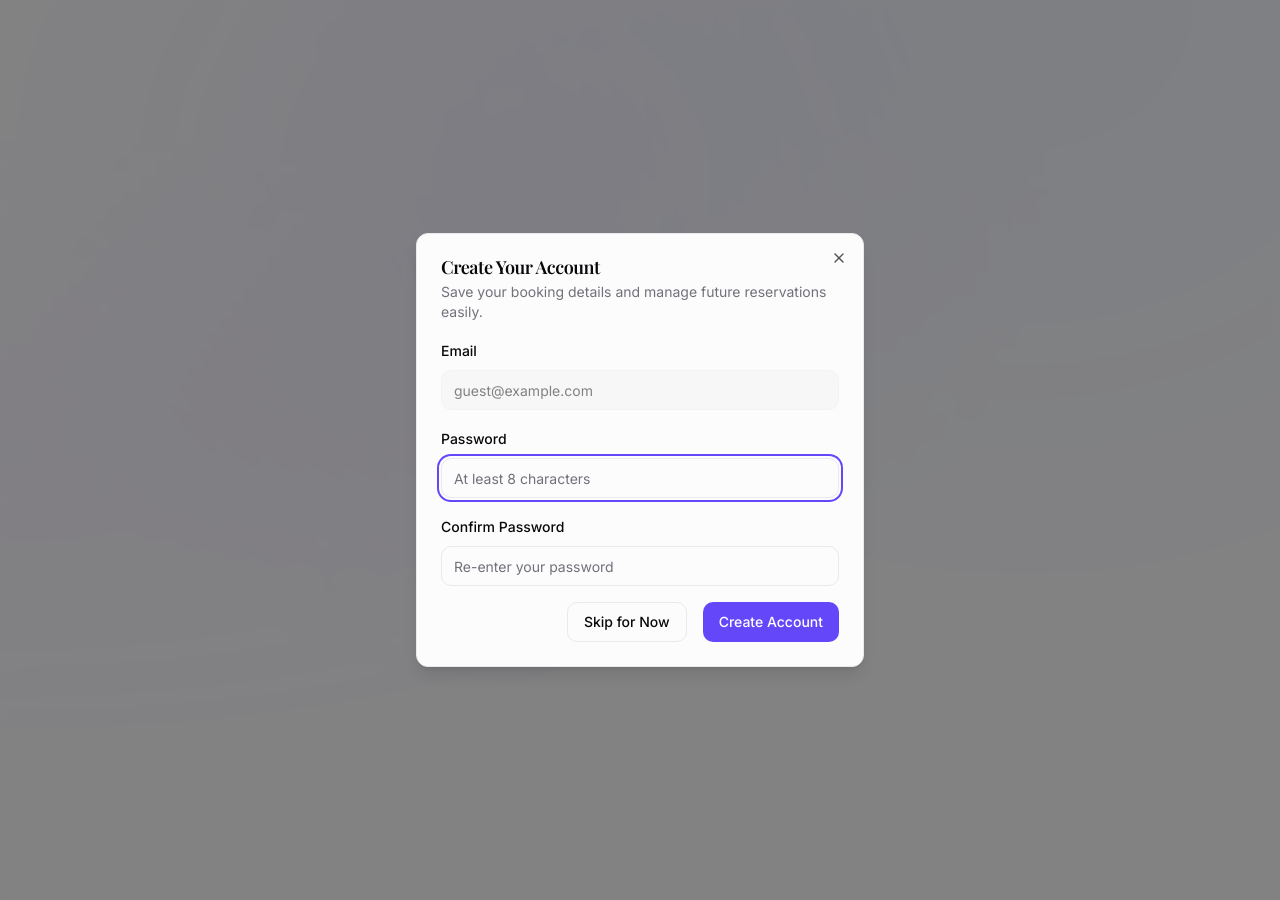
it: CreateAccountDialog › should validate password match
The image size is (1280, 900).
Step 1. Type "password123" into the password field labelled "Password" → (640, 478), box x1=441 y1=458 x2=839 y2=498
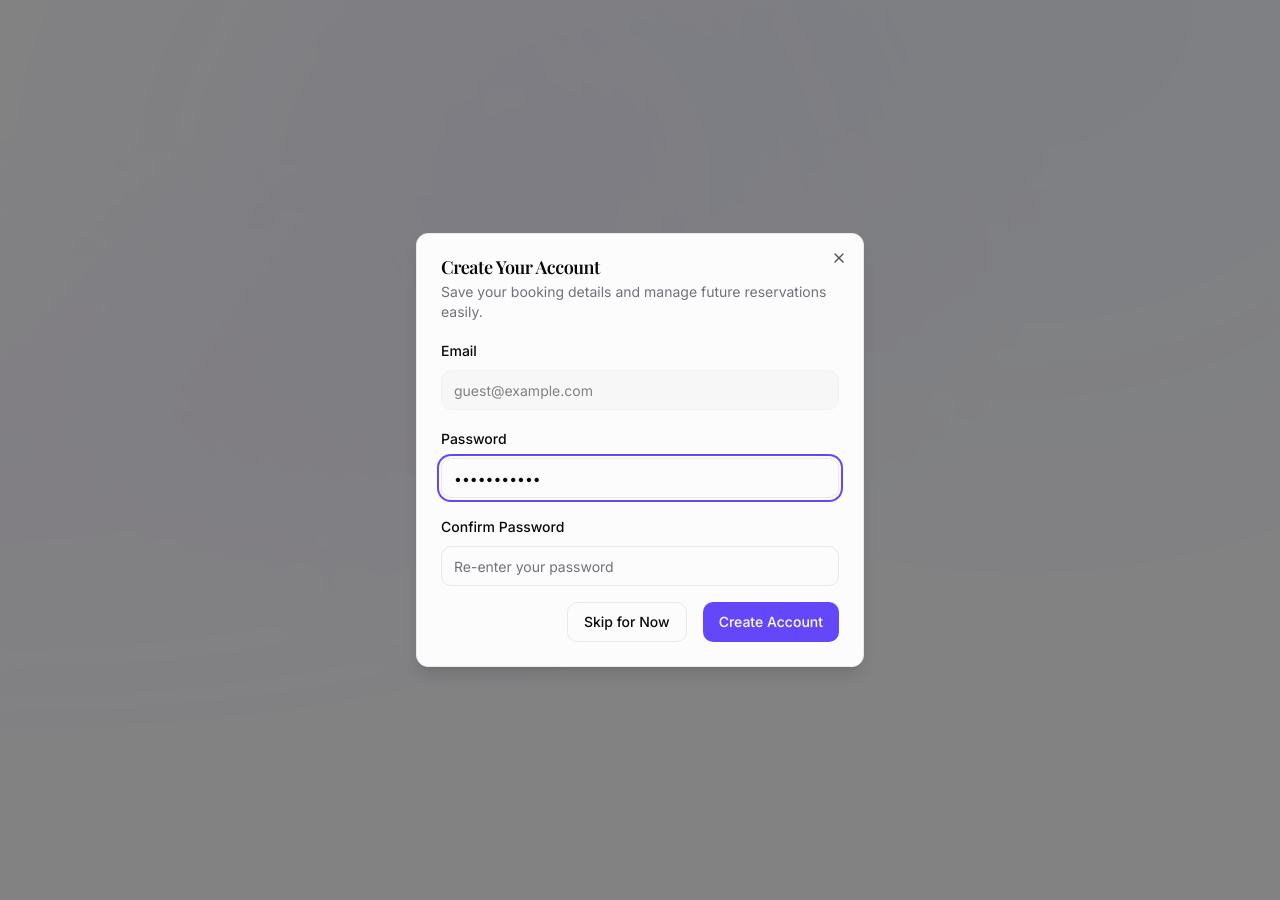
Step 2. Type "different456" into the password field labelled "Confirm Password" → (640, 566), box x1=441 y1=546 x2=839 y2=586
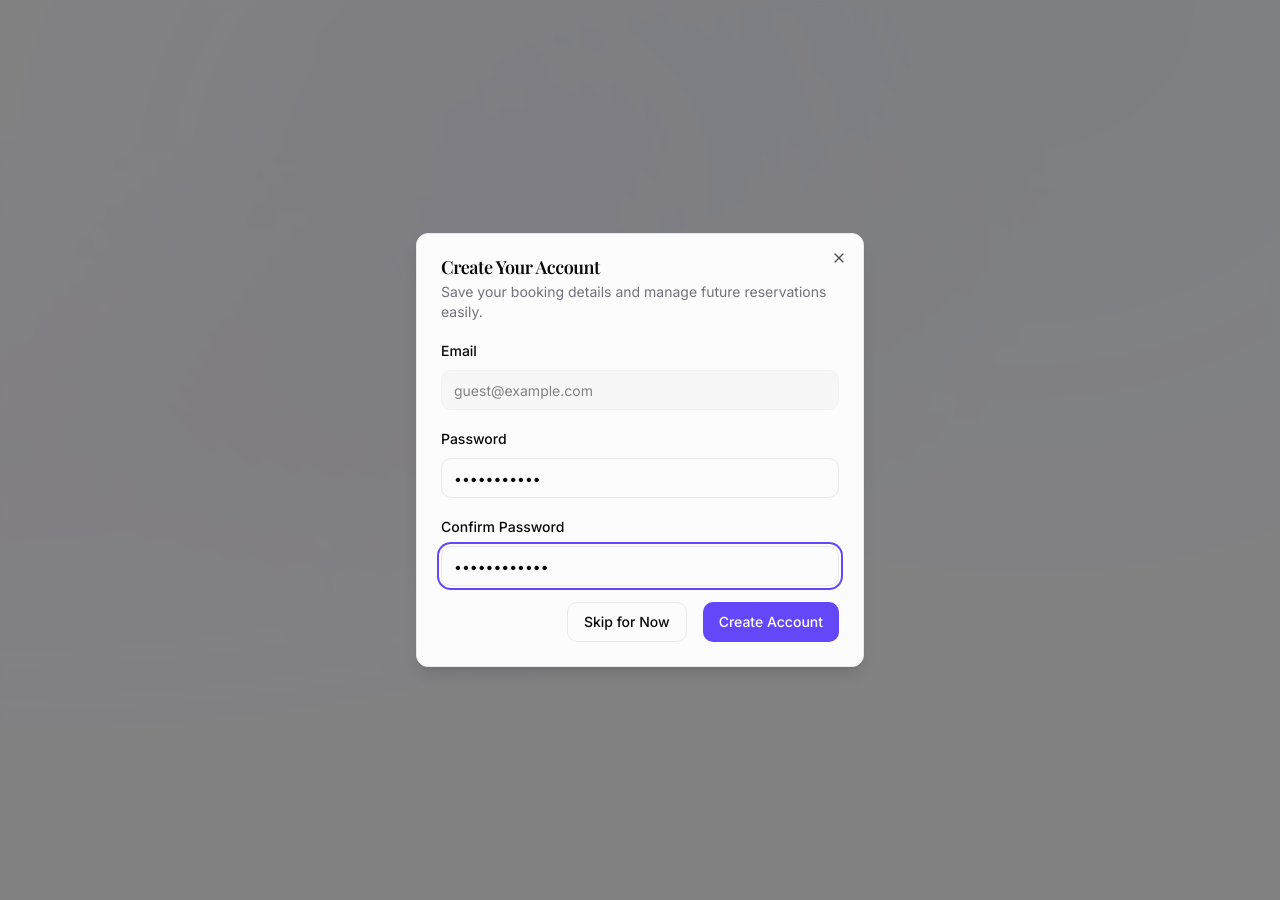
Step 3. Click the button "Create Account" → (771, 622), box x1=703 y1=602 x2=839 y2=642
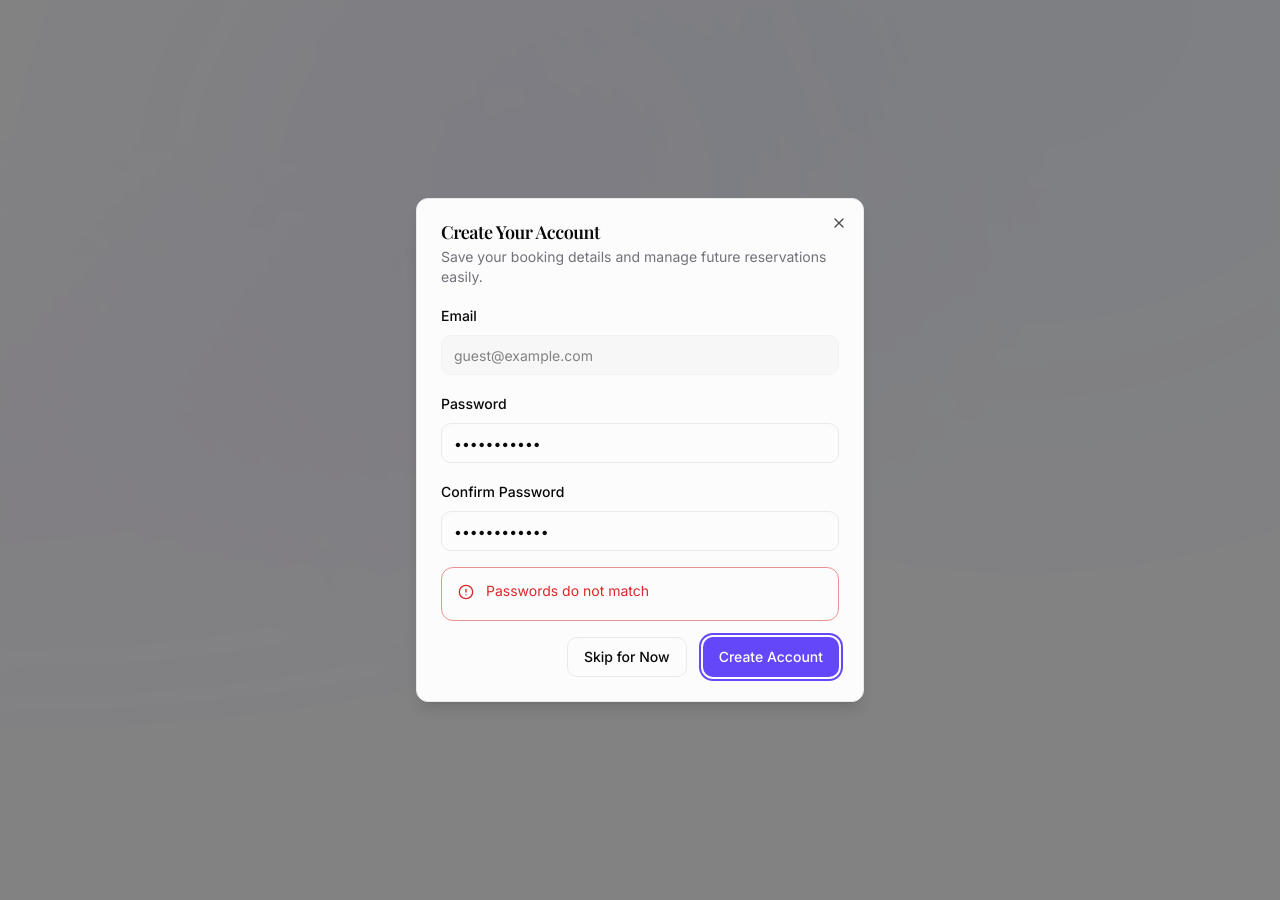
Expected: the text "Passwords do not match" is shown, x1=486 y1=582 x2=649 y2=599
